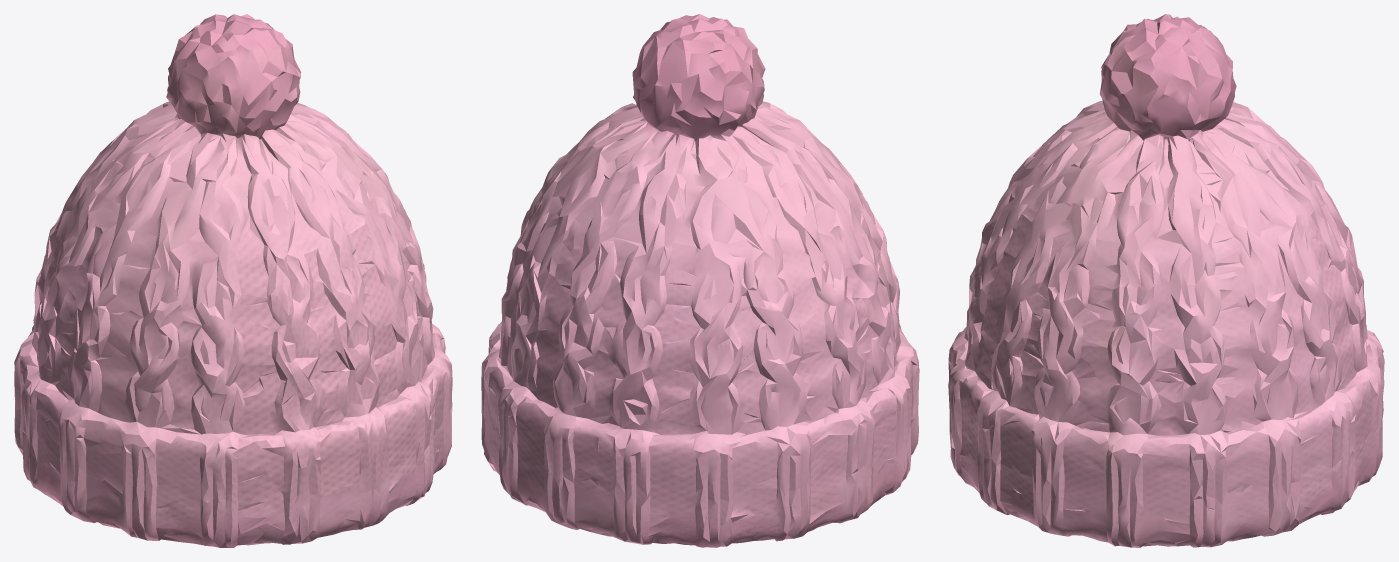
File: mk_beanie.glb
3 renders of one model, left to right at view 1: azimuth 30°, elevation 25°; view 2: azimuth 150°, elevation 25°; view 3: azimuth 270°, elevation 25°, orthographic.
Bounding box in the file's own units: 1.68 × 1.9 × 1.69.
1 material, 1 textured.
